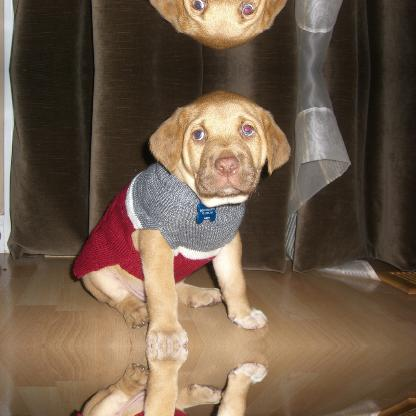Dog: (73, 90, 291, 344), (73, 346, 292, 415)
